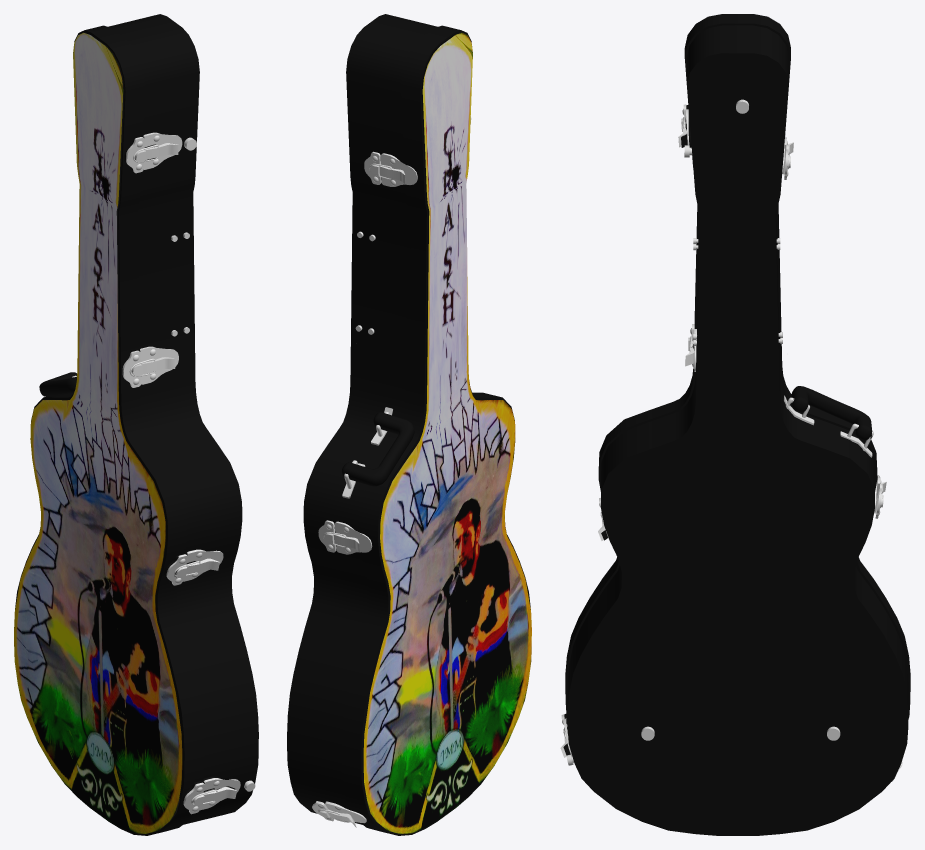
File: Guitar-Case23.glb
3 renders of one model, left to right at view 1: azimuth 30°, elevation 25°; view 2: azimuth 150°, elevation 25°; view 3: azimuth 270°, elevation 25°, orthographic.
Parts seen in each view (by area): view 1: front sheet, model_0, clip 01, clip 01.001, clip 01.003, clip 01.002, hanger; view 2: front sheet, model_0, hanger, clip 01.004, clip 01.005, clip 01.006, hanger metal.001; view 3: model_0, hanger.
Part boxes in pixels (x1=…): front sheet: x1=14, y1=32, x2=182, y2=833; model_0: x1=14, y1=14, x2=258, y2=835; clip 01: x1=122, y1=346, x2=178, y2=387; clip 01.001: x1=126, y1=132, x2=182, y2=173; clip 01.003: x1=183, y1=778, x2=240, y2=814; clip 01.002: x1=166, y1=549, x2=223, y2=585; hanger: x1=39, y1=372, x2=76, y2=400; front sheet: x1=363, y1=33, x2=531, y2=833; model_0: x1=287, y1=14, x2=530, y2=835; hanger: x1=342, y1=412, x2=414, y2=499; clip 01.004: x1=364, y1=151, x2=417, y2=186; clip 01.005: x1=318, y1=520, x2=372, y2=554; clip 01.006: x1=312, y1=801, x2=366, y2=827; hanger metal.001: x1=342, y1=407, x2=392, y2=498; model_0: x1=563, y1=14, x2=910, y2=835; hanger: x1=791, y1=386, x2=872, y2=448.
Size of the model in its own units: 19.36 by 177 by 71.46.
Materials: 18 (1 with a texture image).
